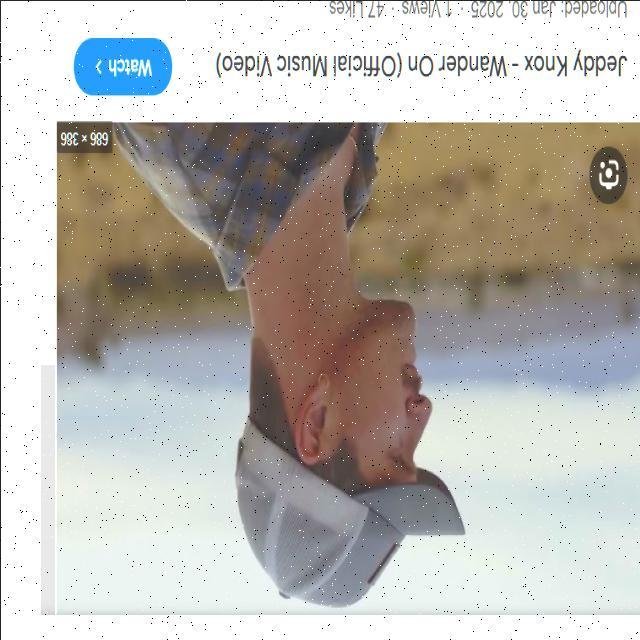face_no_mask: (296, 295, 432, 501)
